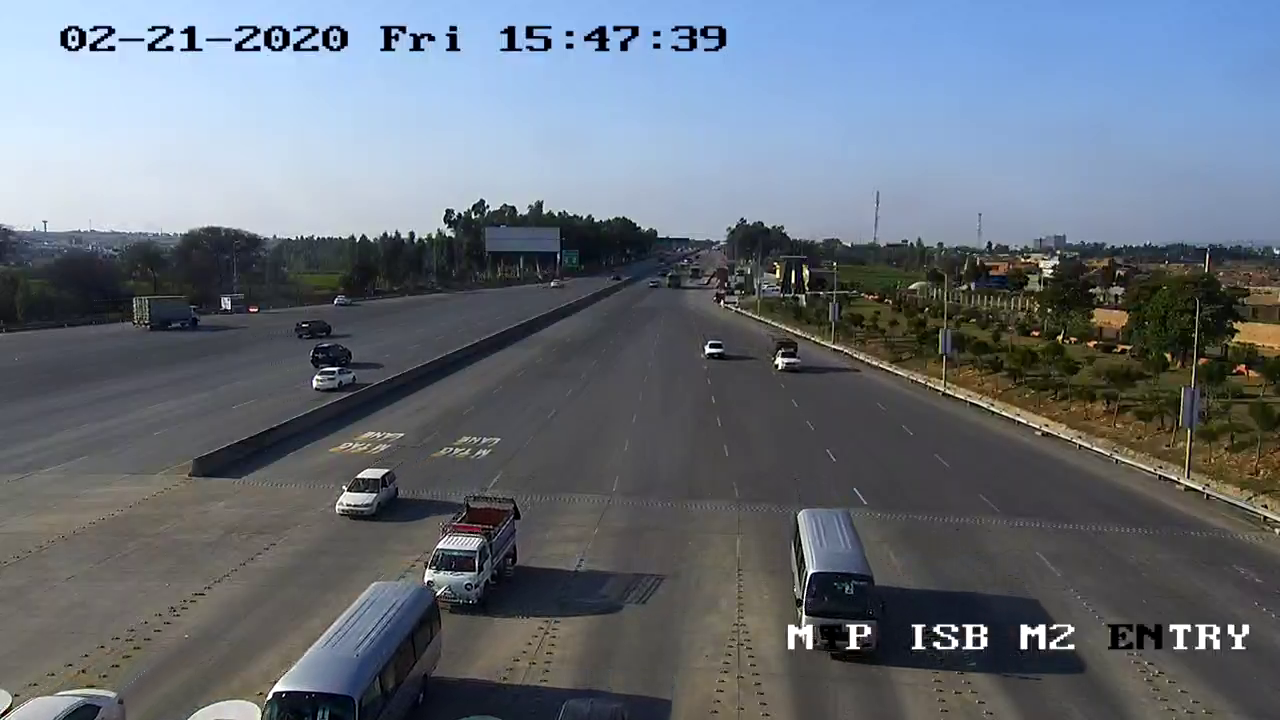f1: (326, 458, 409, 526)
f2: (414, 484, 528, 623)
